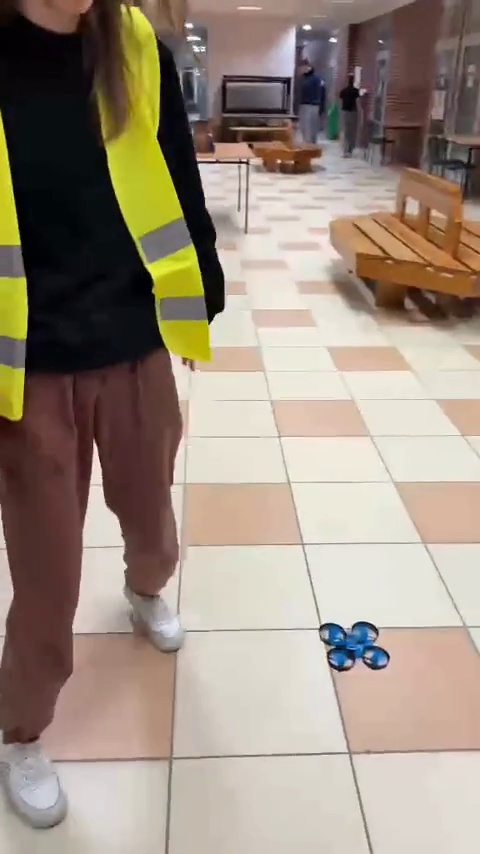drone: (319, 620, 390, 676)
no vest: (288, 53, 323, 149), (332, 72, 368, 158)
vest: (3, 0, 201, 815)
